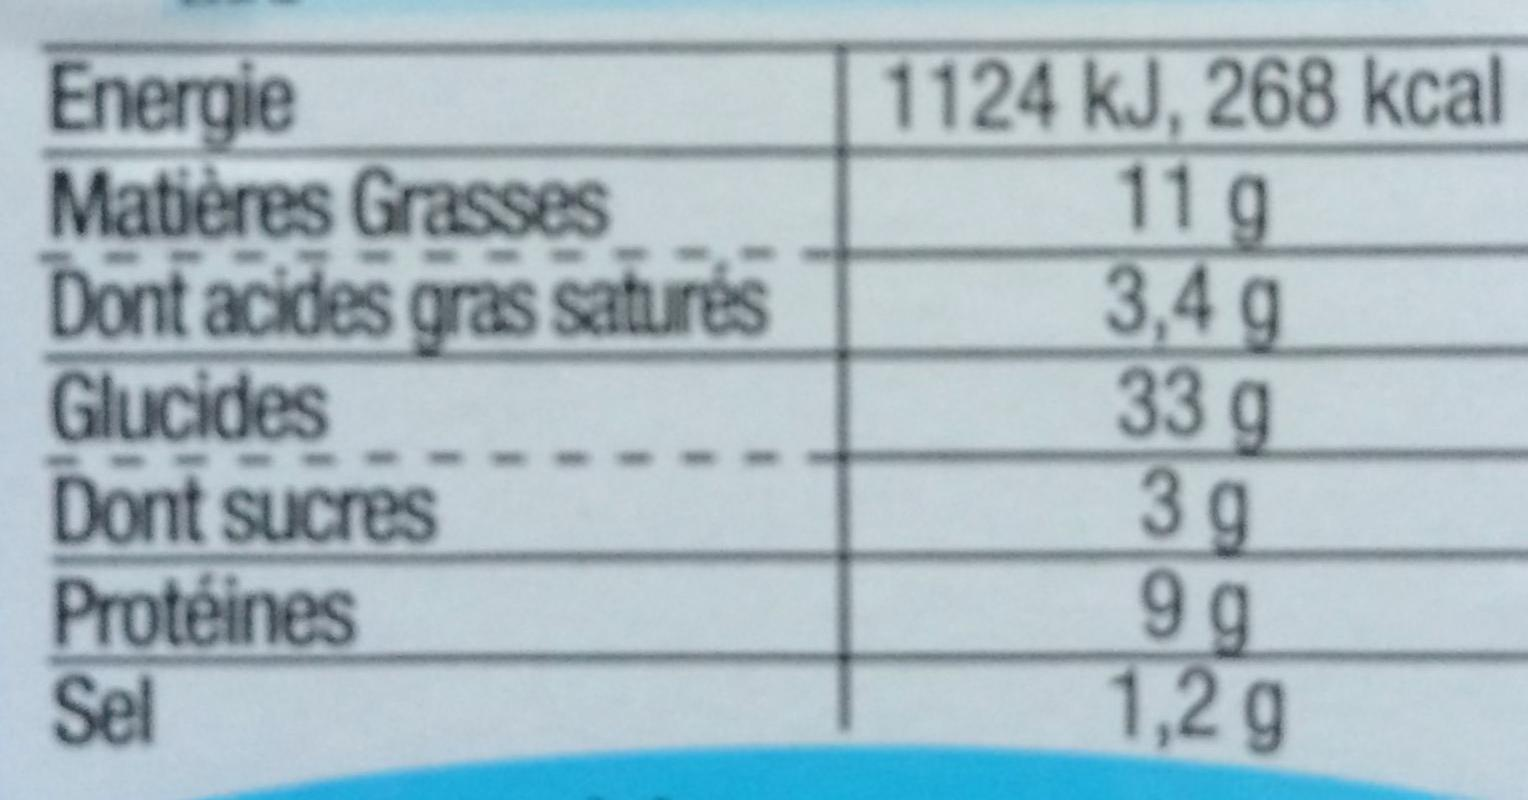column: (38, 63, 769, 767), (878, 33, 1500, 743)
line: (47, 38, 1499, 132), (52, 675, 1299, 765), (58, 575, 1265, 654), (52, 473, 1267, 547), (43, 173, 1273, 240), (50, 277, 1275, 339), (49, 383, 1286, 444)
table: (9, 11, 1528, 793)
